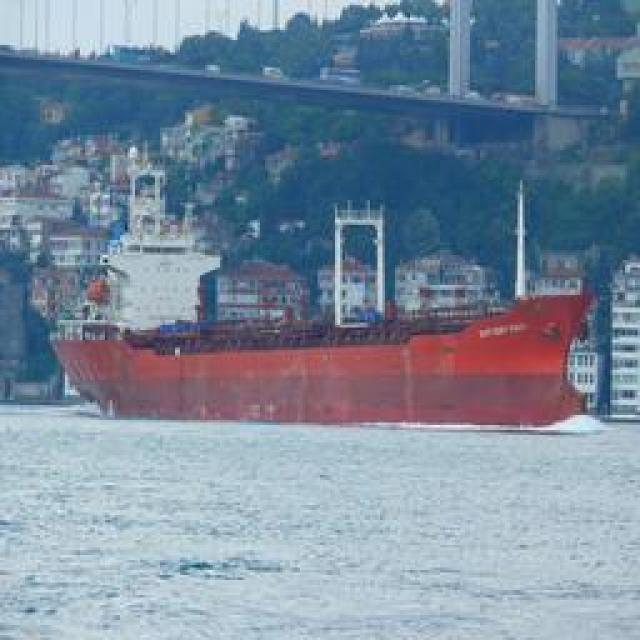CIV_Ship: (58, 282, 598, 426)
